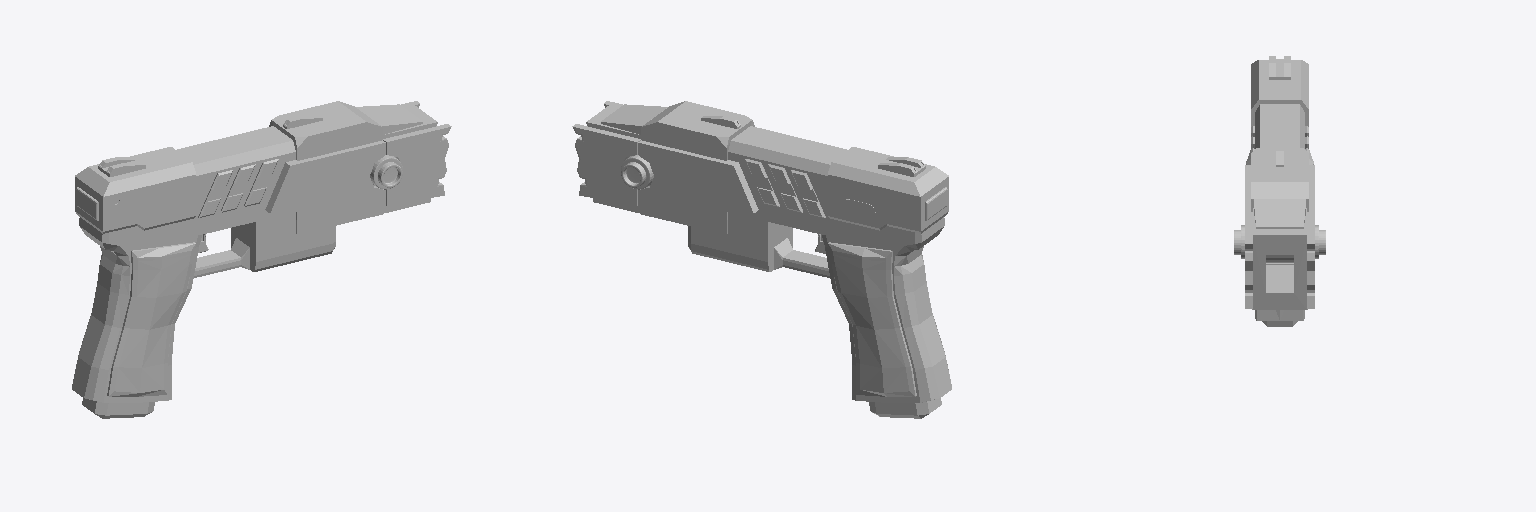
File: Grapple Gun.obj
3 views of the same model, side by side, from view 1: azimuth 30°, elevation 25°; view 2: azimuth 150°, elevation 25°; view 3: azimuth 270°, elevation 25° (orthographic).
Parts seen in each view (by area): view 1: Cylinder.010_Cylinder.009; view 2: Cylinder.010_Cylinder.009; view 3: Cylinder.010_Cylinder.009.
Boxes of the visible parts, box(x1,y1,x2,y2) form: Cylinder.010_Cylinder.009: box(72, 101, 451, 418); Cylinder.010_Cylinder.009: box(572, 101, 951, 418); Cylinder.010_Cylinder.009: box(1234, 56, 1325, 326).
Bounding box in the file's own units: 5.37 × 3.67 × 1.2.